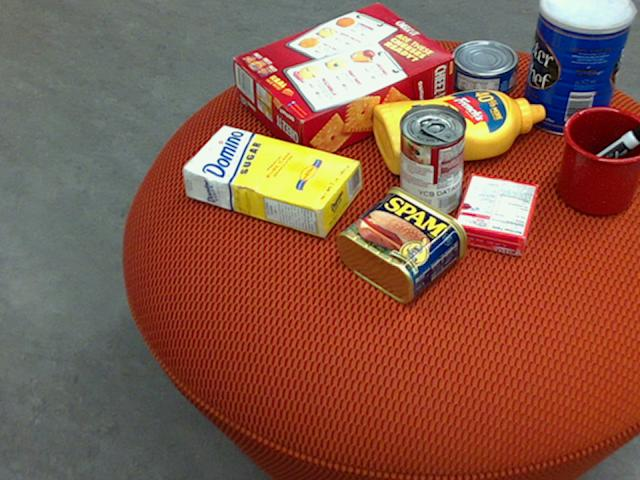cracker_box: (232, 2, 453, 163)
gelatin_box: (453, 174, 540, 257)
large_marker: (560, 121, 639, 191)
master_chef_can: (521, 0, 635, 135)
mug: (557, 106, 639, 215)
mustard_bottle: (372, 90, 544, 173)
potted_meat_can: (335, 185, 466, 302)
sugar_box: (180, 123, 360, 238)
tomato_soup_can: (397, 101, 465, 217)
tuna_fish_can: (447, 40, 517, 96)
